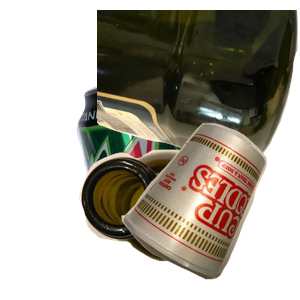glass: (77, 147, 295, 300)
metal: (74, 74, 257, 254)
plastic: (97, 10, 300, 165)
trash: (119, 121, 300, 300)
